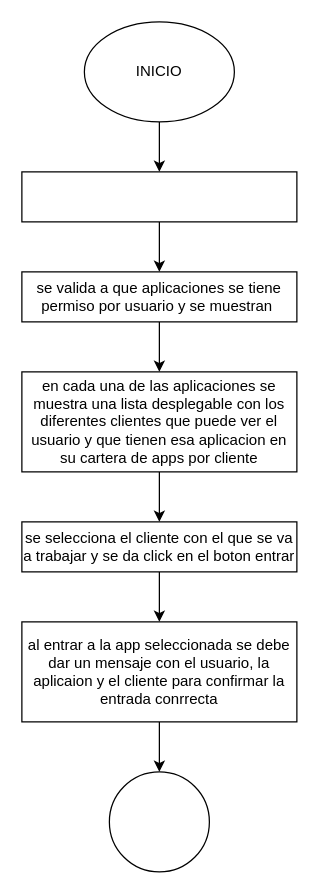
This 319x894 diagram has some shape labels left out. Each missing label, with the box of its shape:
FIN: (108, 771, 209, 872)
usuario autenticacion correcta en login: (21, 171, 297, 222)
